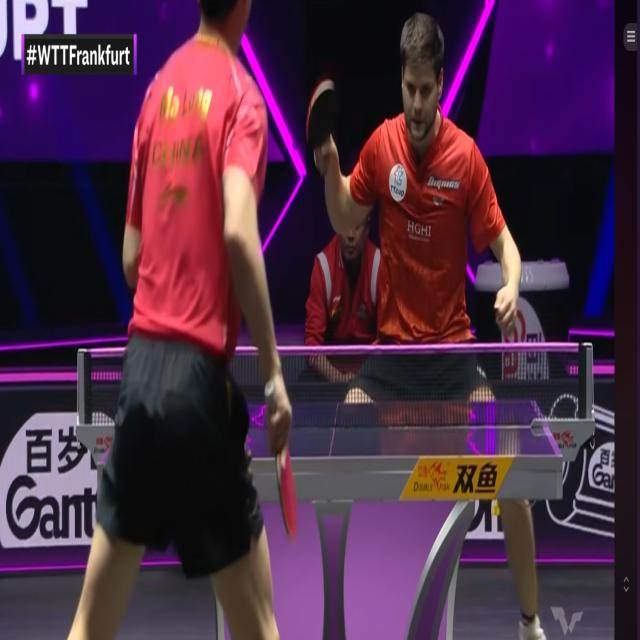TT Net: (77, 346, 591, 435)
TT Racket: (265, 435, 316, 554), (303, 75, 346, 156)
TT Table: (100, 400, 560, 464)
